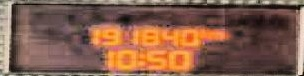0: (164, 50, 189, 69), (114, 48, 136, 67), (178, 29, 198, 45)
1: (104, 50, 113, 67), (89, 27, 98, 43), (129, 28, 138, 43)
4: (158, 28, 178, 43)
5: (145, 48, 167, 67)
8: (138, 27, 158, 44)
9: (98, 27, 118, 44)
X: (207, 30, 225, 39), (136, 52, 145, 65), (198, 27, 207, 38)
